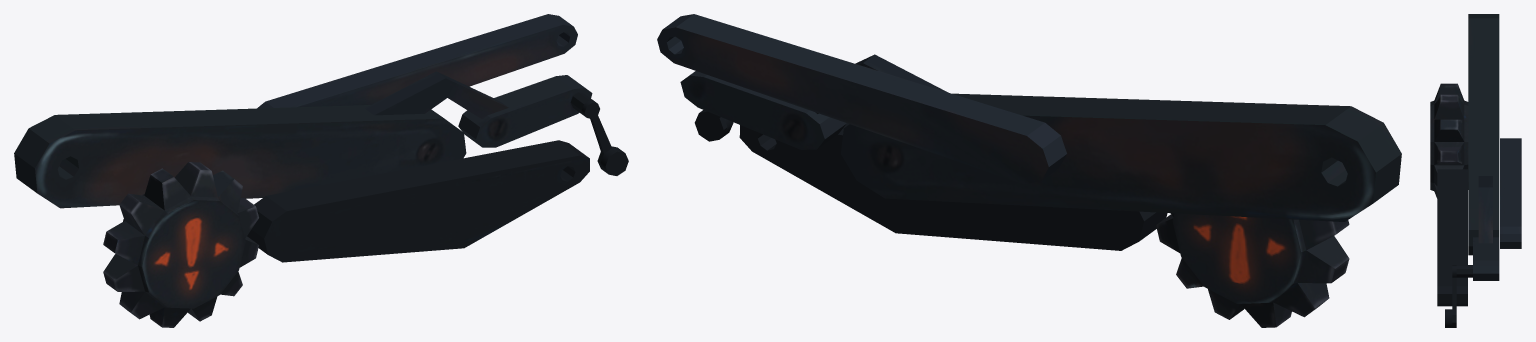
File: Platform_Break.FBX
3 renders of one model, left to right at view 1: azimuth 30°, elevation 25°; view 2: azimuth 150°, elevation 25°; view 3: azimuth 270°, elevation 25°, orthographic. The views are drawn at different scales.
Parts seen in each view (by area): view 1: Platform005_Break; view 2: Platform005_Break; view 3: Platform005_Break.
Part boxes in pixels (x1,y1,x2,y2): Platform005_Break: (14, 14, 628, 327); Platform005_Break: (657, 14, 1401, 327); Platform005_Break: (1430, 14, 1521, 327).
Size of the model in its own units: 54.28 by 18.26 by 10.04.
